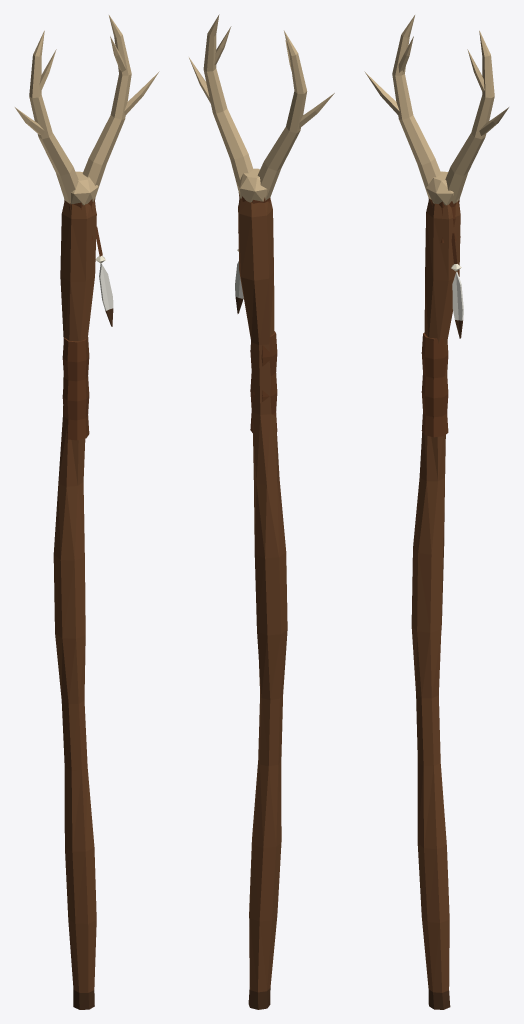
The model's file is W2S_AntlerStaff.fbx.
The picture shows the model from 3 angles, left to right: view 1: azimuth 30°, elevation 25°; view 2: azimuth 150°, elevation 25°; view 3: azimuth 330°, elevation 25°; orthographic projection.
Parts seen in each view (by area): view 1: W2S_AntlerStaff; view 2: W2S_AntlerStaff; view 3: W2S_AntlerStaff.
Boxes of the visible parts, <box> form: W2S_AntlerStaff: <box>15,15,159,1009</box>; W2S_AntlerStaff: <box>189,14,334,1009</box>; W2S_AntlerStaff: <box>364,15,508,1009</box>.
Bounding box in the file's own units: 26.54 × 171 × 6.83.
